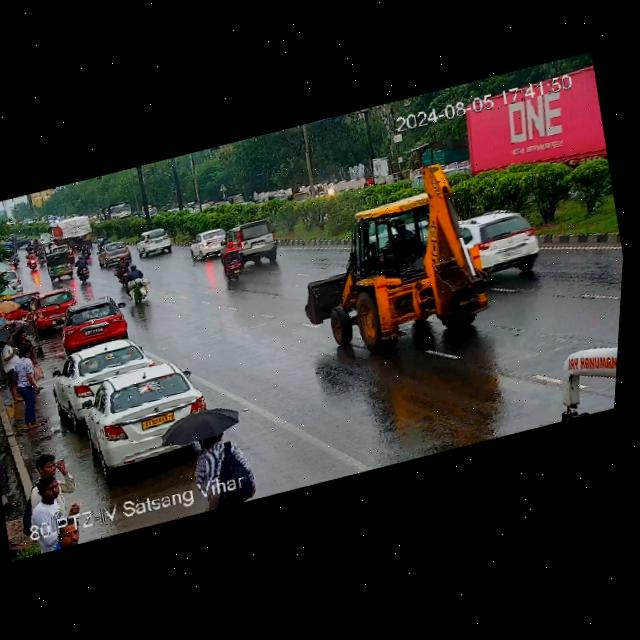bus: (542, 330, 619, 422)
car: (73, 352, 218, 471), (50, 332, 153, 415), (453, 196, 551, 283), (56, 293, 140, 356), (225, 216, 286, 274), (23, 284, 77, 332), (188, 226, 232, 261), (41, 245, 80, 283), (93, 239, 132, 268), (138, 226, 174, 256), (0, 265, 29, 300), (286, 188, 314, 211), (265, 187, 288, 206), (36, 229, 56, 247), (226, 191, 246, 208), (13, 234, 34, 250), (210, 199, 233, 211)
motorcycle: (107, 255, 155, 304), (220, 244, 252, 282), (71, 251, 94, 286), (23, 246, 40, 273), (95, 230, 113, 248), (78, 238, 93, 259)
person: (10, 445, 90, 544), (156, 401, 247, 481), (0, 339, 54, 432)
truck: (292, 169, 493, 358), (450, 63, 610, 181), (48, 212, 96, 251), (100, 196, 135, 224)
